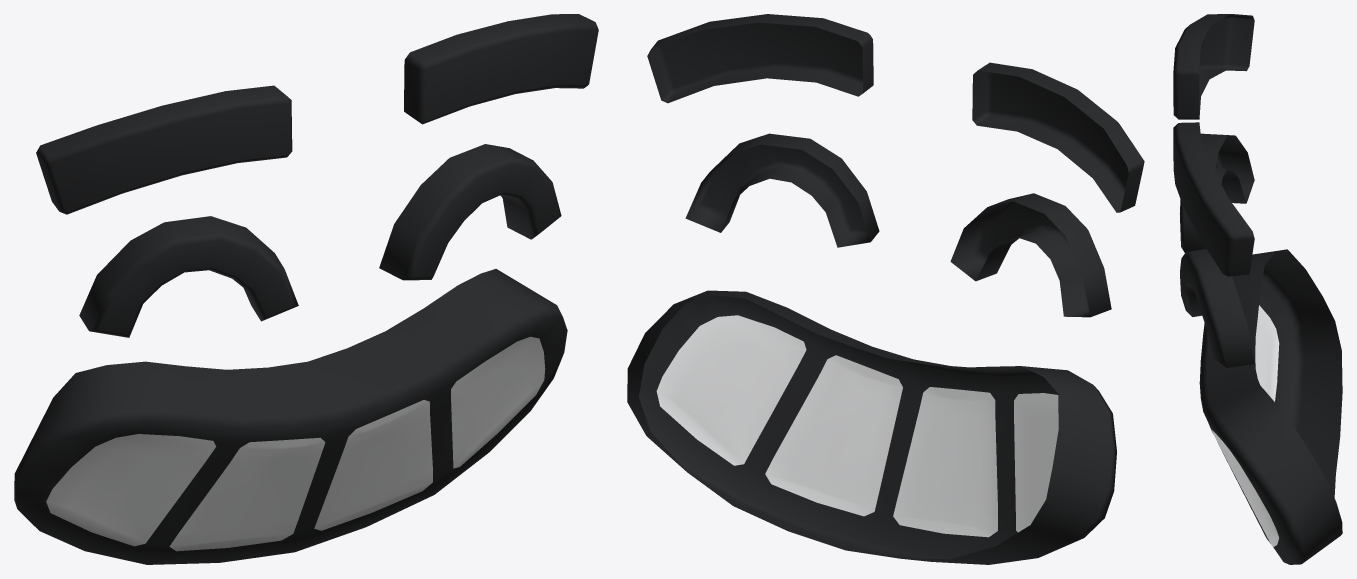
Rendered from Male_Emotion_Happy_01.glb.
3 renders of one model, left to right at view 1: azimuth 30°, elevation 25°; view 2: azimuth 150°, elevation 25°; view 3: azimuth 270°, elevation 25°, orthographic. The views are drawn at different scales.
Parts seen in each view (by area): view 1: Male_Emotion_Happy_01; view 2: Male_Emotion_Happy_01; view 3: Male_Emotion_Happy_01.
Part boxes in pixels (<box>): Male_Emotion_Happy_01: <box>14,14,598,564</box>; Male_Emotion_Happy_01: <box>627,14,1144,564</box>; Male_Emotion_Happy_01: <box>1173,14,1342,564</box>.
Bounding box in the file's own units: 0.2582 × 0.2339 × 0.0832.
Materials: 1 (1 with a texture image).
